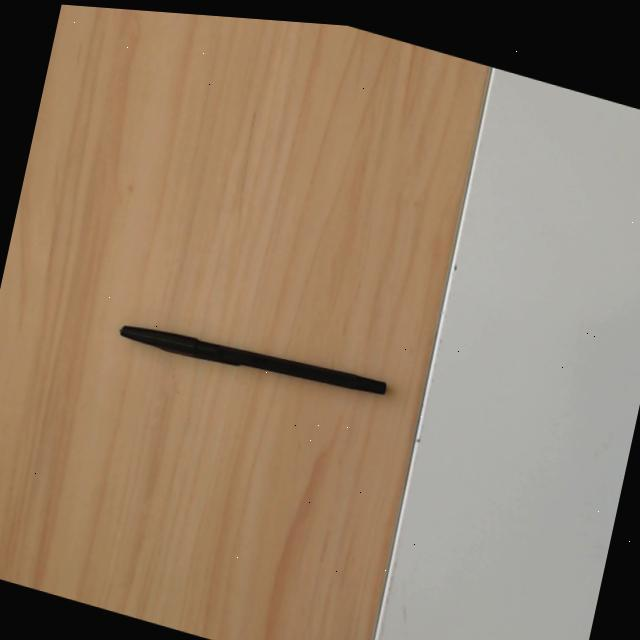Pulpen-Hitam: (115, 321, 388, 400)
